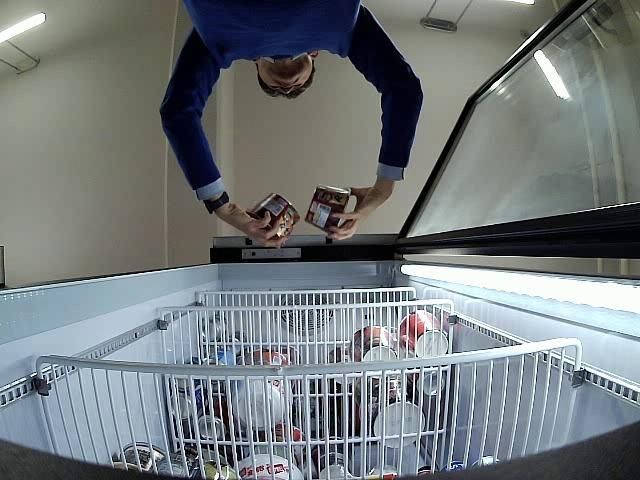05_nuguri_L: (246, 192, 300, 246), (304, 184, 351, 235)
